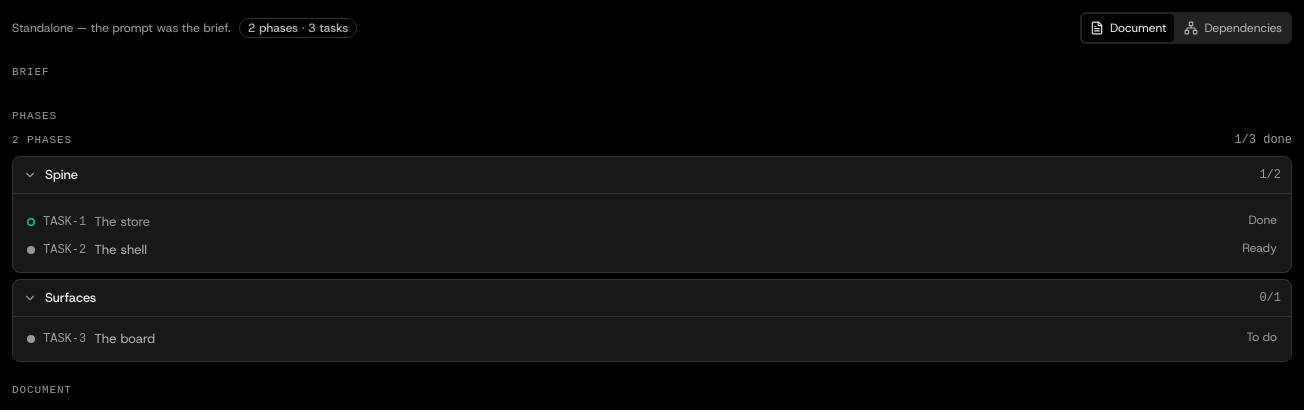
it: the dependencies view › is the same revision read another way, and is a real tab
Click the tab "Dependencies": click(1233, 28) [1176, 14, 1290, 42]
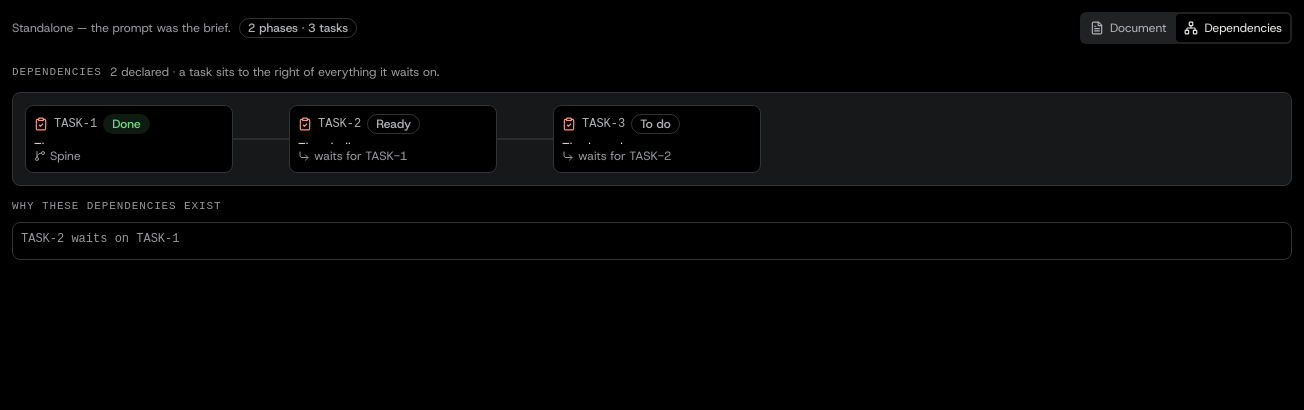
Expected: the element named "Dependency graph" is shown, [12, 92, 1292, 186]
